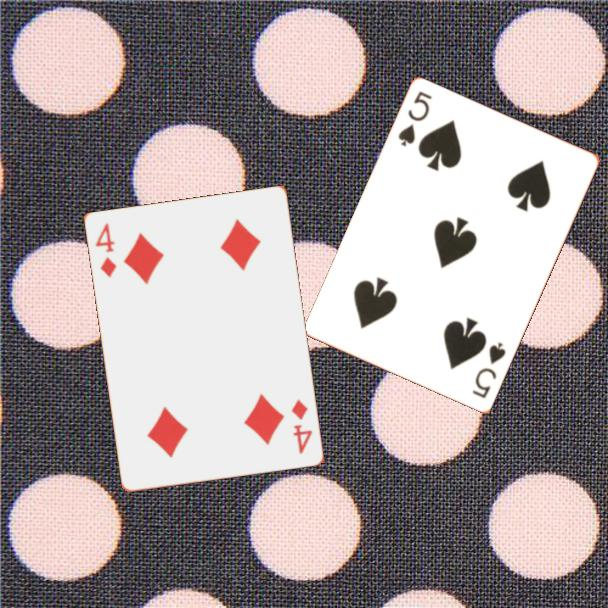d04: (288, 396, 315, 457), (92, 220, 119, 280)
s05: (469, 339, 509, 402), (395, 88, 435, 150)
